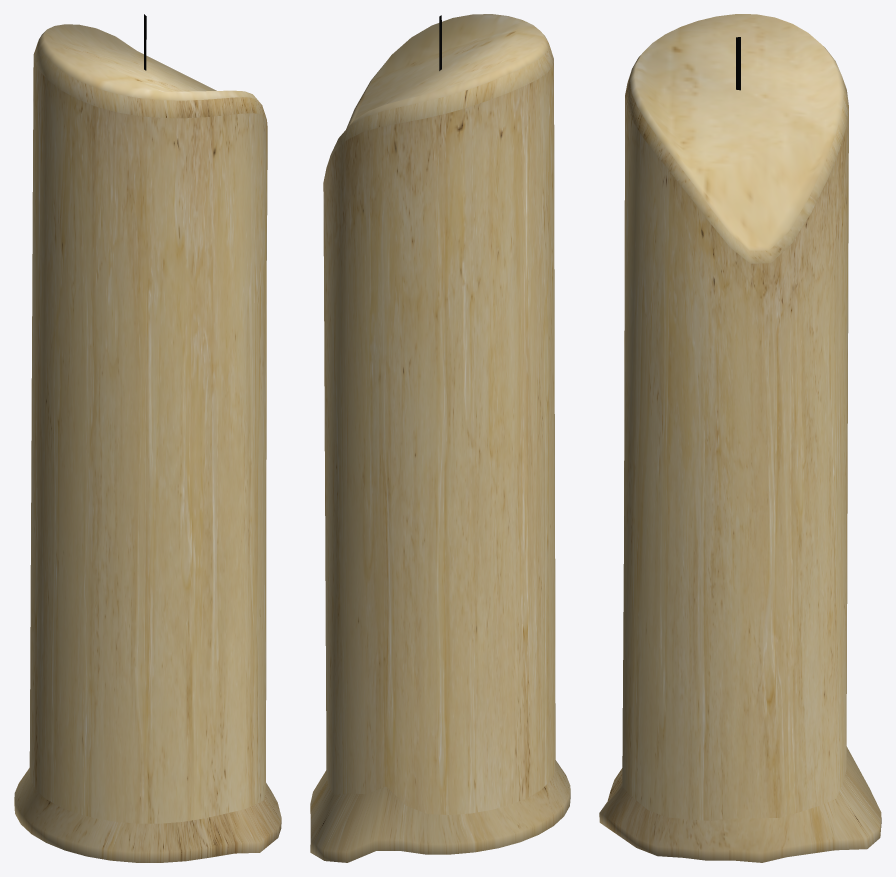
Rendered from candle.glb.
3 views of the same model, side by side, from view 1: azimuth 30°, elevation 25°; view 2: azimuth 150°, elevation 25°; view 3: azimuth 270°, elevation 25° (orthographic). The views are drawn at different scales.
Parts seen in each view (by area): view 1: Candle; view 2: Candle; view 3: Candle.
Part boxes in pixels (bbox=[...]): Candle: bbox=[14, 14, 281, 862]; Candle: bbox=[310, 14, 570, 862]; Candle: bbox=[599, 14, 881, 862].
Size of the model in its own units: 2.26 by 7.76 by 2.54.
2 materials, 1 textured.
